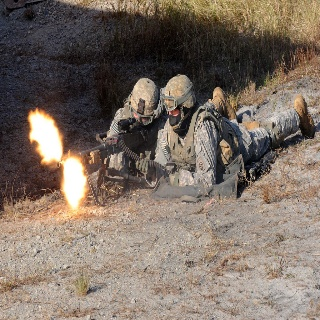rifle: (57, 118, 159, 171)
